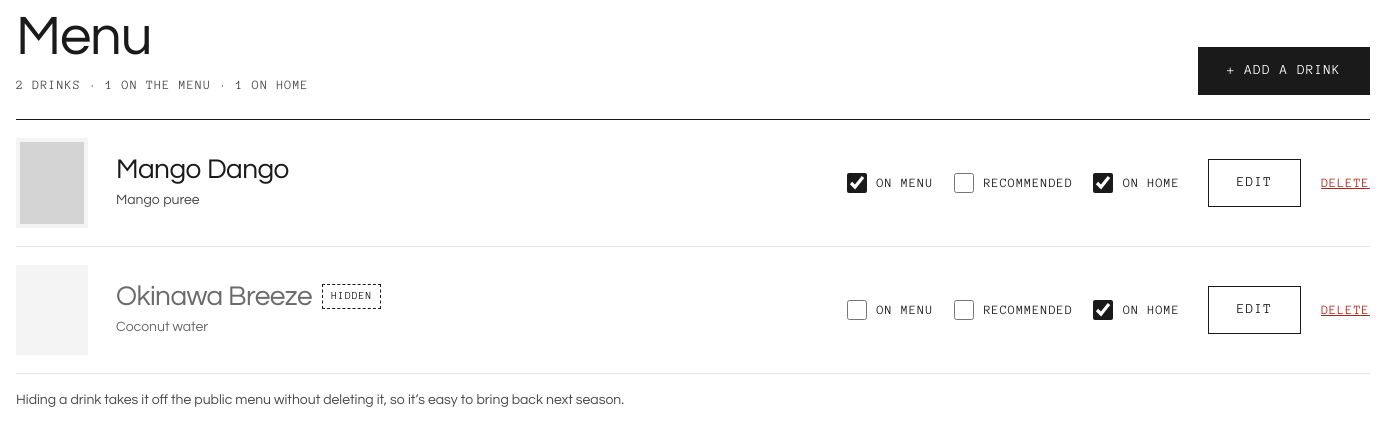
Scenario: counts a drink as on home only when it is also on the menu
Expected: the text "2 drinks · 1 on the menu · 1 on home" is shown, [16, 75, 309, 94]
Click the checkbox named "On menu: Okinawa Breeze".
click(857, 310)  # box [847, 300, 867, 320]
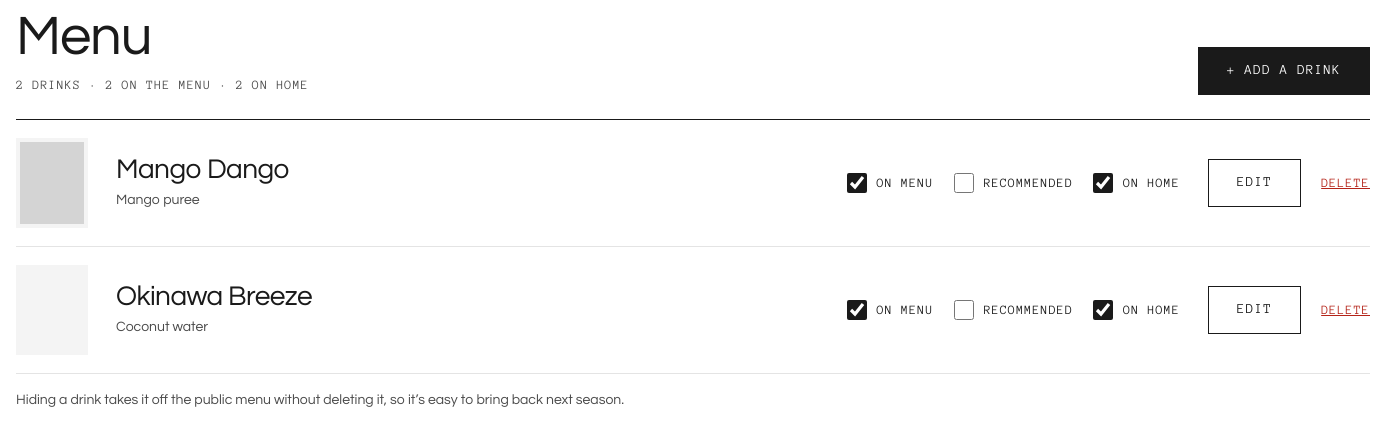
Result: the text "2 drinks · 2 on the menu · 2 on home" is shown at [16, 75, 309, 94]
